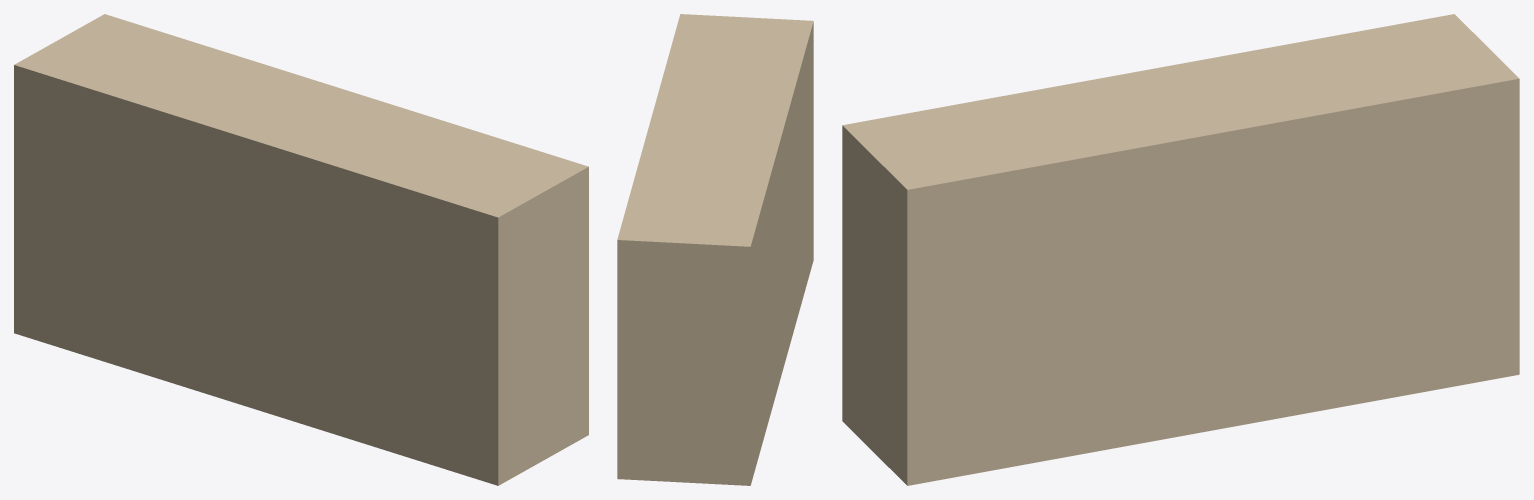
File: -16_10-estimated-coarse.glb
3 renders of one model, left to right at view 1: azimuth 30°, elevation 25°; view 2: azimuth 150°, elevation 25°; view 3: azimuth 270°, elevation 25°, orthographic. The views are drawn at different scales.
Size of the model in its own units: 15.3 by 12 by 24.88.
